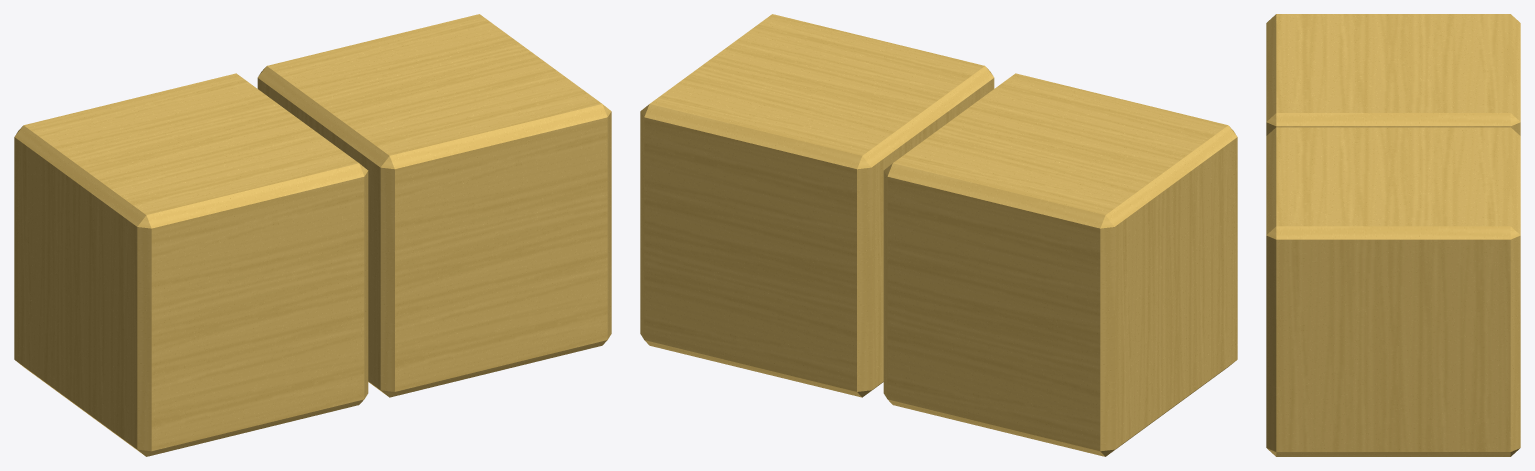
File: piece_I2.glb
The picture shows the model from 3 angles, left to right: view 1: azimuth 30°, elevation 25°; view 2: azimuth 150°, elevation 25°; view 3: azimuth 270°, elevation 25°; orthographic projection. The views are drawn at different scales.
Visible parts, largest first — view 1: piece_I2; view 2: piece_I2; view 3: piece_I2.
Boxes of the visible parts, left/top/right/bottom form: piece_I2: left=14, top=14, right=611, bottom=456; piece_I2: left=640, top=14, right=1237, bottom=456; piece_I2: left=1266, top=14, right=1520, bottom=456.
Size of the model in its own units: 0.078 by 0.038 by 0.038.
1 material, 1 textured.
